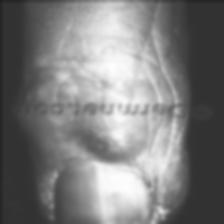Toxin: (82, 122, 154, 168)
